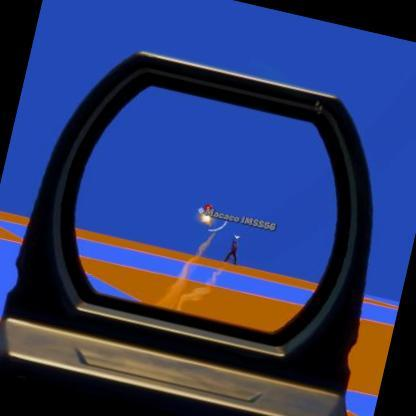person: (223, 235, 242, 266)
